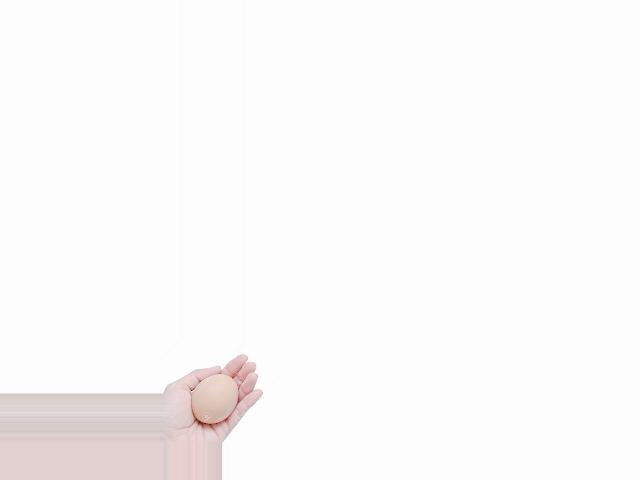egg: (191, 374, 238, 423)
